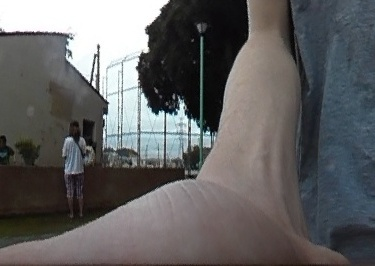person: (60, 118, 84, 218)
